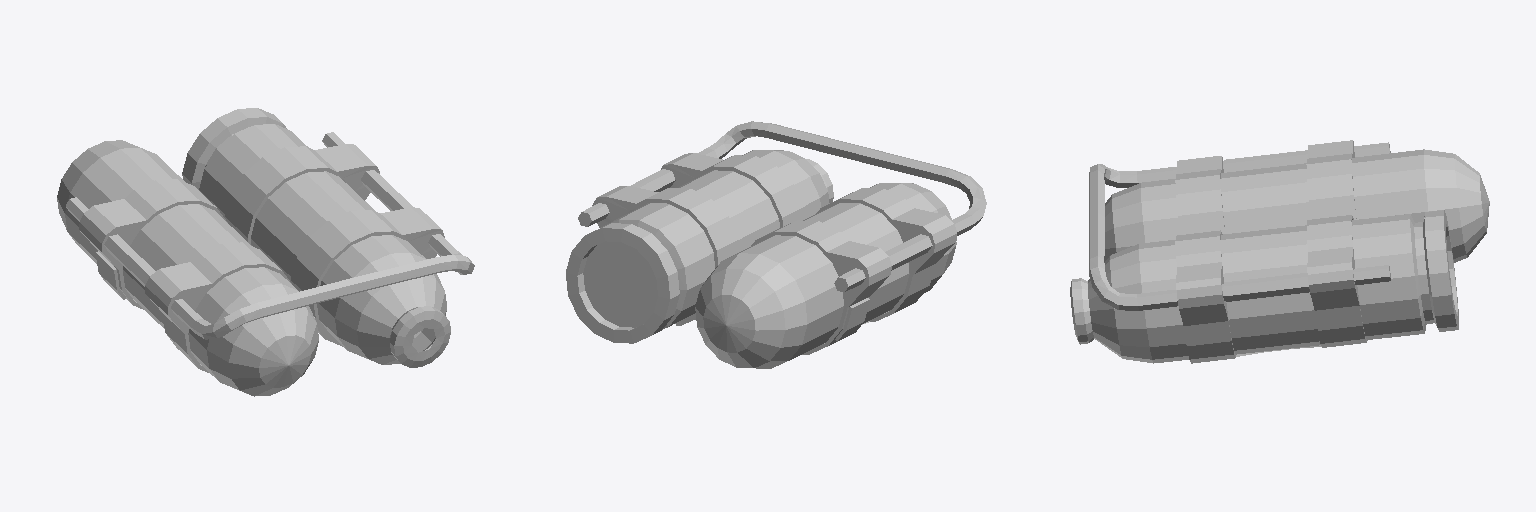
The model's file is envhelmet2.obj.
3 views of the same model, side by side, from view 1: azimuth 30°, elevation 25°; view 2: azimuth 150°, elevation 25°; view 3: azimuth 270°, elevation 25° (orthographic).
Parts seen in each view (by area): view 1: Backpack; view 2: Backpack; view 3: Backpack.
Part boxes in pixels (x1,y1,x2,y2): Backpack: (57,108,474,396); Backpack: (566,121,986,368); Backpack: (1070,140,1489,363).
Bounding box in the file's own units: 22.33 × 10.98 × 29.2.